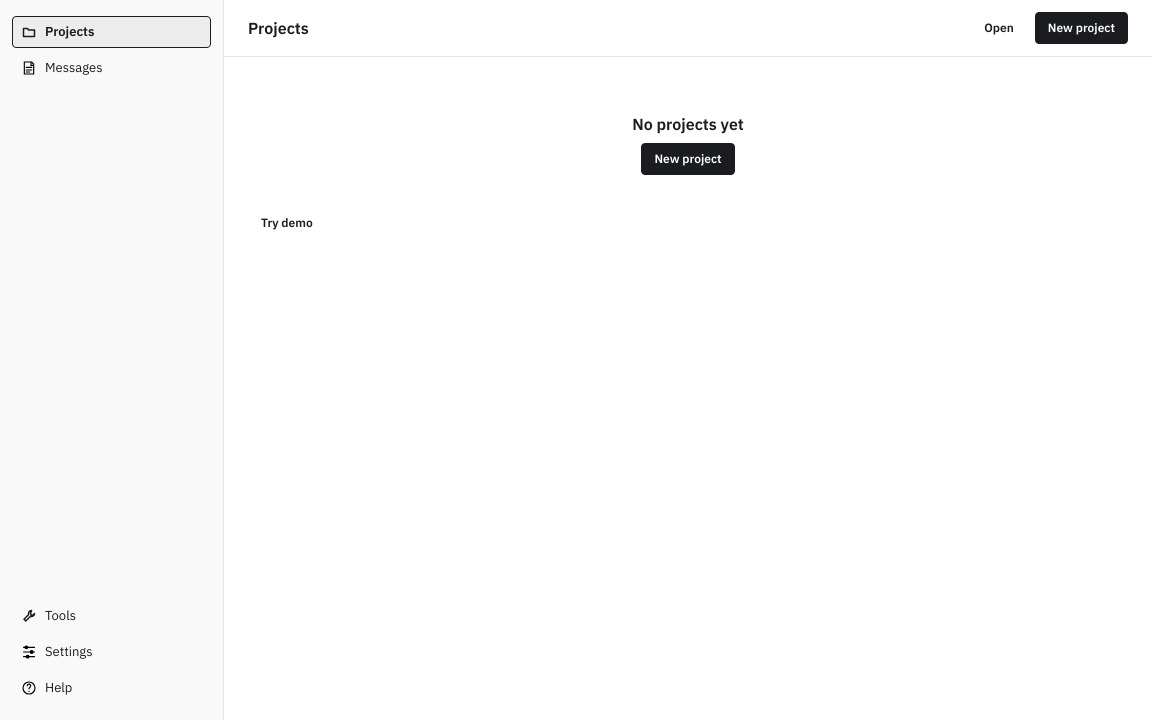
it: a refused workspace open offers choosing a different folder as its next action
Expected: the navigation bar named "Main" is shown, [0,0,224,719]
Click the button "Open": (999, 28) [971,12,1027,44]
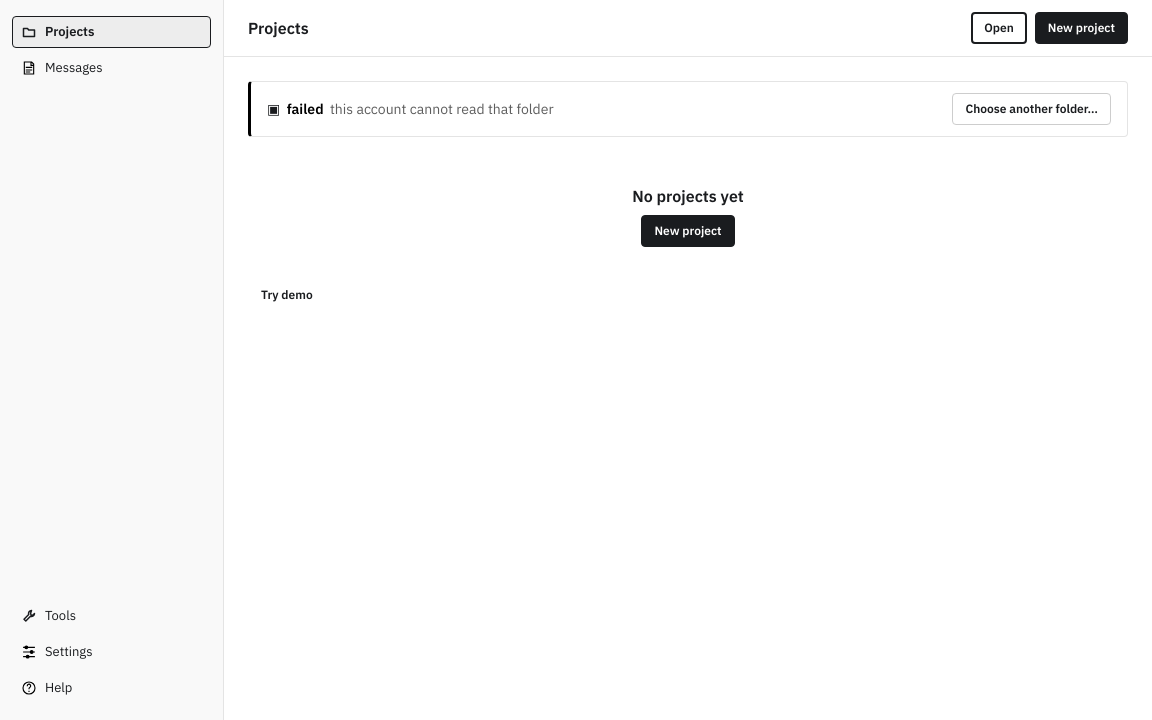
Expected: the text "this account cannot read that folder" is shown, [330,99,554,119]
Click the button "Choose another folder…": (1032, 109) [952,93,1111,125]
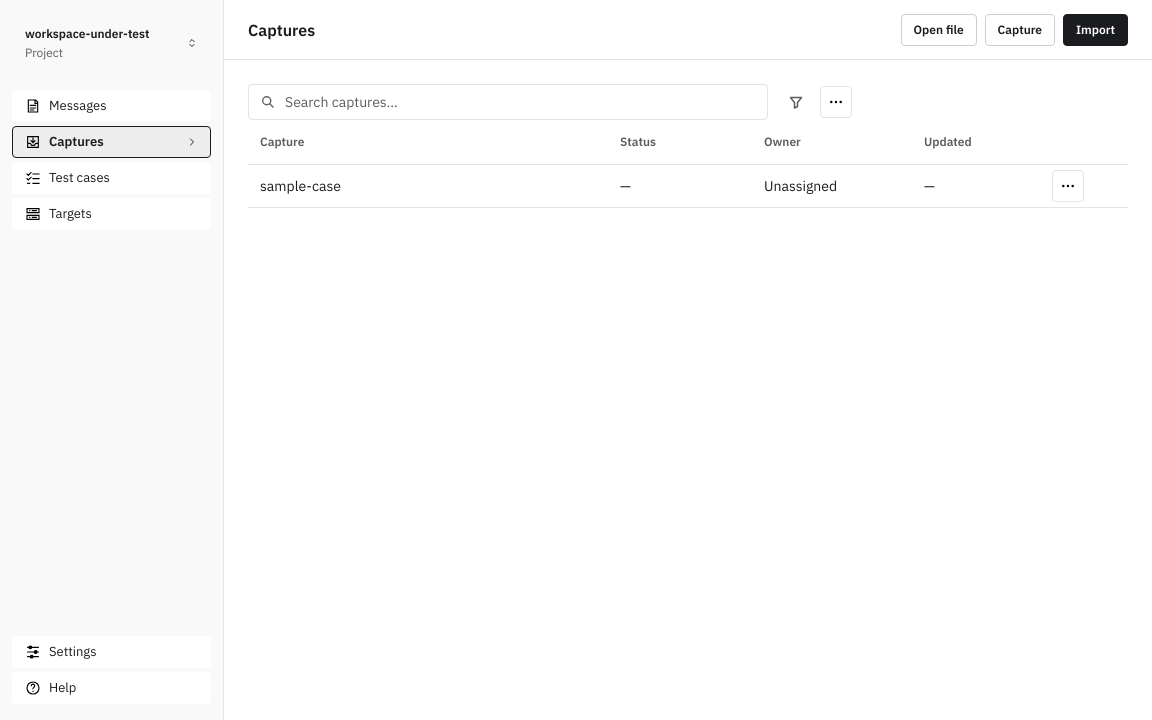
Expected: the button with aria-label "Project: " is shown, [12,16,211,70]
